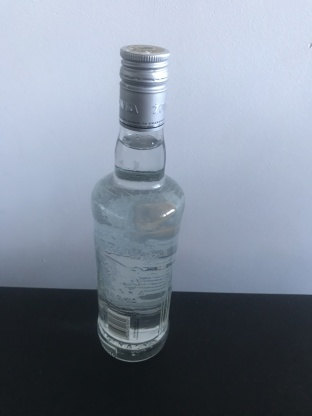nakretka: (117, 41, 171, 135)
